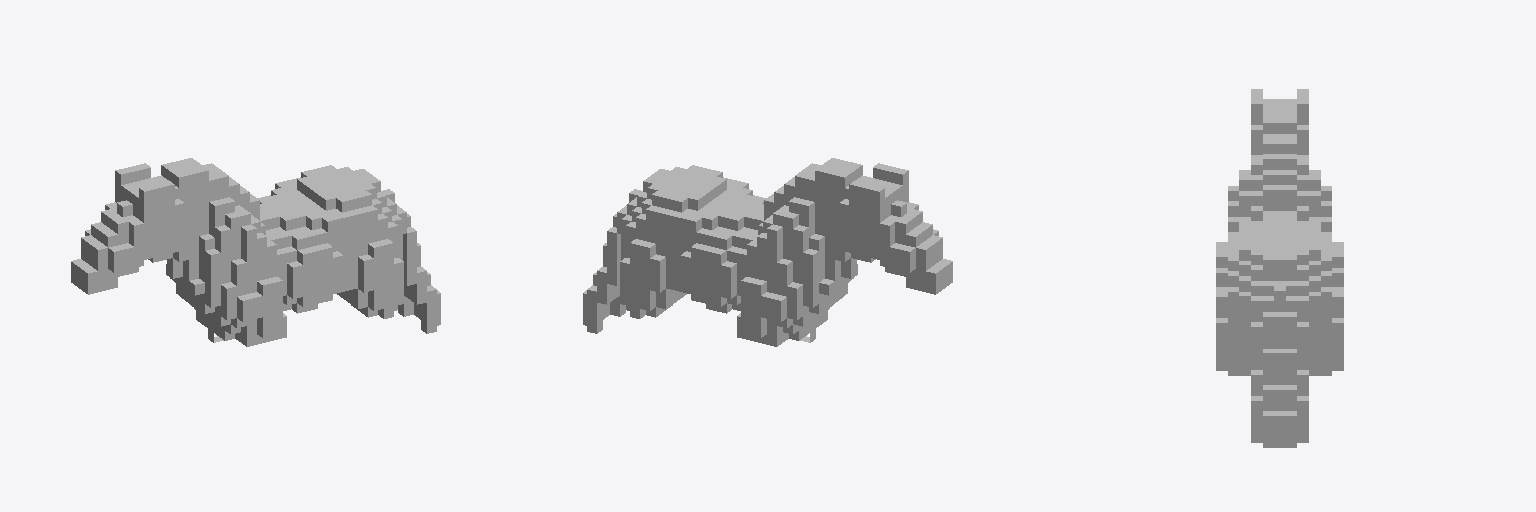
The model's file is body.obj.
3 renders of one model, left to right at view 1: azimuth 30°, elevation 25°; view 2: azimuth 150°, elevation 25°; view 3: azimuth 270°, elevation 25°, orthographic.
Parts seen in each view (by area): view 1: x24_przewalski_horse; view 2: x24_przewalski_horse; view 3: x24_przewalski_horse.
Boxes of the visible parts, x1,y1,x2,y2 form: x24_przewalski_horse: [71, 158, 440, 346]; x24_przewalski_horse: [583, 158, 952, 346]; x24_przewalski_horse: [1216, 89, 1343, 447].
Size of the model in its own units: 35 by 20 by 11.